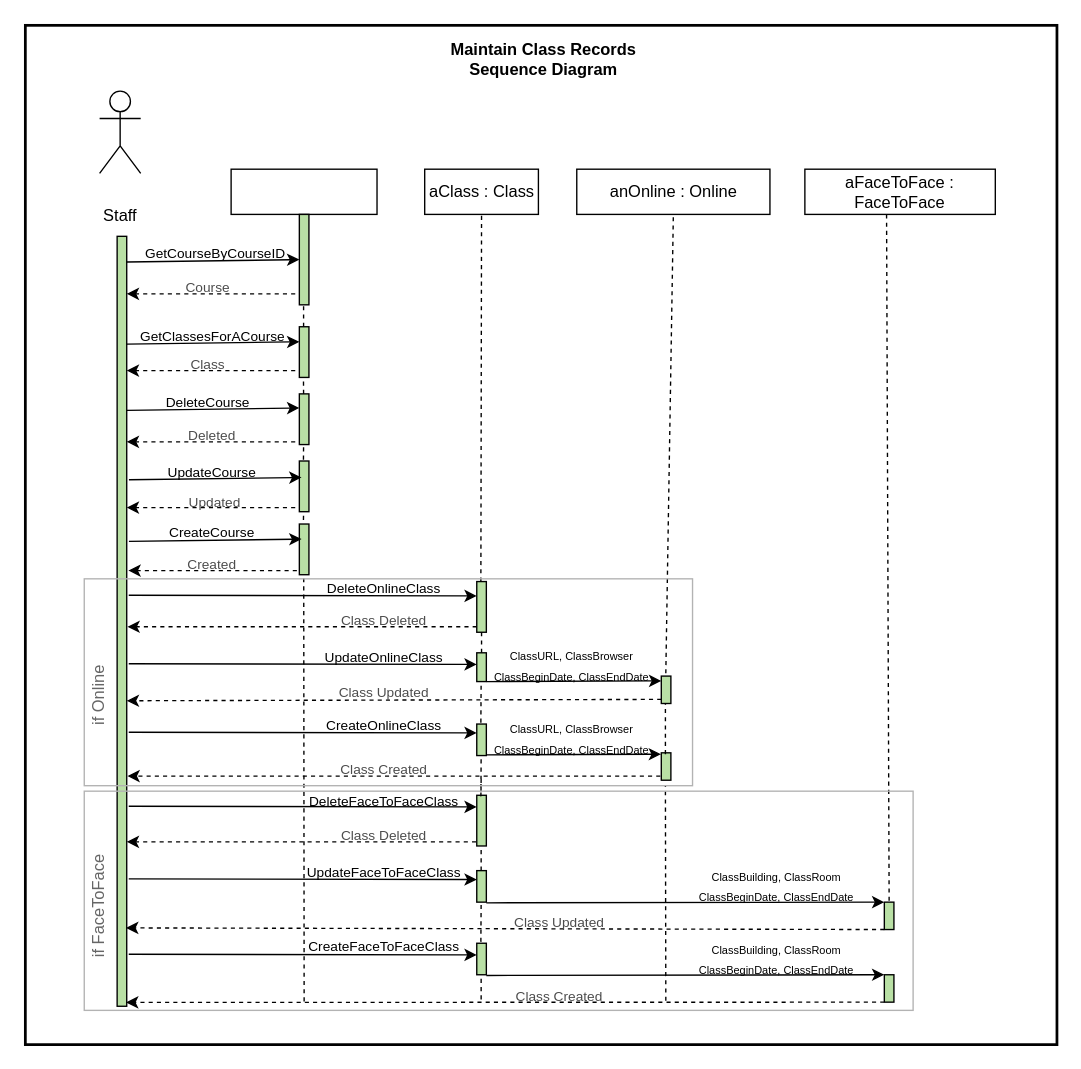
The diagram is 1081 pixels wide and 1069 high, and some of its shapes have lost their labels. The shapes that lost their labels are listed below. From the top down, each one's box as (x1, y1, x2, y2) in pixels, then its label:
(98, 90, 141, 173): Actor
(230, 168, 377, 214): aCourse : Course
